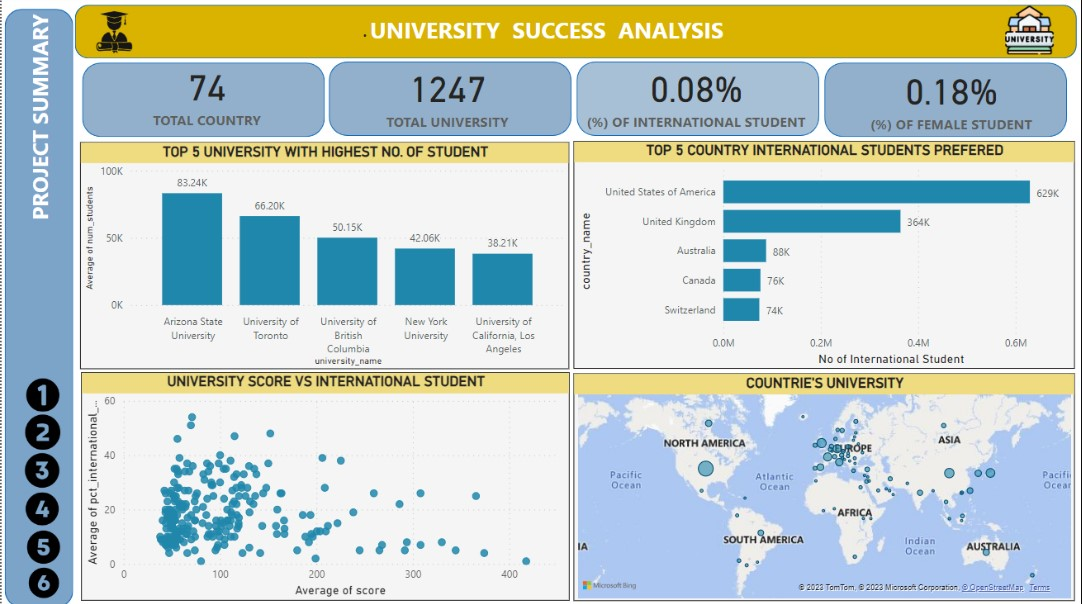

The page's visual inventory and layout, read from the dashboard file:
{"tool":"powerbi","page":{"name":"Dashboard","canvas":[1280,720],"ordinal":0},"visuals":[{"type":"shape","title":"PROJECT SUMMARY","box":[3.7,11,81.2,709],"z":0},{"type":"shape","box":[86.3,6.1,1186.2,63.6],"z":1000},{"type":"textbox","box":[413.2,12.2,522.7,55],"z":2000},{"type":"image","box":[1154.1,2.7,125.9,67.2],"z":3000},{"type":"image","box":[68,3.4,128.4,68.5],"z":4000},{"type":"shape","box":[387.5,73.6,287.3,88],"z":5000},{"type":"shape","box":[680.9,73.3,287.3,88],"z":6000},{"type":"shape","box":[974.3,74.6,287.3,88],"z":7000},{"type":"card","title":"TOTAL COUNTRY","fields":{"Values":["CountNonNull(country_university_lookup_table.university.id (PK))"]},"box":[437.6,67.5,180.9,91.7],"z":8000},{"type":"card","title":"TOTAL COUNTRY","fields":{"Values":["university_fact_table.Internation_student_percentage (%)"]},"box":[682.6,67.2,281.2,91.7],"z":9000},{"type":"card","title":"TOTAL COUNTRY","fields":{"Values":["university_fact_table.Female student Percentage(%)"]},"box":[986.5,69.7,276.8,91.7],"z":10000},{"type":"columnChart","title":"TOP 5 UNIVERSITY WITH HIGHEST NO. OF STUDENT","fields":{"Category":["country_university_table.university_name"],"Y":["Avg(university_fact_table.num_students)"]},"box":[92.9,168.7,579.4,269.2],"z":11000},{"type":"map","title":"COUNTRIE''S UNIVERSITY","fields":{"Category":["country_university_lookup_table.country_name"],"Size":["CountNonNull(country_university_lookup_table.university.id (PK))"]},"box":[677.8,441.9,593.7,270],"z":12000},{"type":"scatterChart","title":"UNIVERSITY SCORE VS INTERNATIONAL STUDENT","fields":{"X":["university_fact_table.score"],"Y":["Avg(university_fact_table.pct_international_students)"],"Category":["country_university_table.university.id (PK)"]},"box":[94.1,441.3,578.4,270.2],"z":13000},{"type":"image","box":[19.6,443.2,58.7,48.9],"z":14000},{"type":"image","box":[15.4,486.3,64.8,51.3],"z":15000},{"type":"image","box":[17.8,531.7,58.7,51.3],"z":16000},{"type":"image","box":[22.7,578.4,50.1,50.1],"z":17000},{"type":"image","box":[20.8,623.4,57.7,49.8],"z":18000},{"type":"image","box":[22,667.4,55.7,46.9],"z":19000},{"type":"shape","box":[95.1,74.3,287.3,88],"z":20000},{"type":"card","title":"TOTAL COUNTRY","fields":{"Values":["Count(country_university_lookup_table.country_name)"]},"box":[153.3,65.3,180.9,91.7],"z":21000},{"type":"clusteredBarChart","title":"TOP 5 COUNTRY INTERNATIONAL STUDENTS PREFERED","fields":{"Category":["country_university_lookup_table.country_name"],"Y":["Sum(university_fact_table.pct_international_students)"]},"box":[677.8,167.7,593.7,270],"z":22000}]}

Visuals, with their boxes in screenshot pixels (x1, y1, x2, y2), scaled from the page's 1280x720 canvas onto the 1082x604 screenshot:
"PROJECT SUMMARY" shape: locate(3, 9, 72, 603)
shape: locate(73, 5, 1076, 58)
textbox: locate(349, 10, 791, 56)
image: locate(976, 2, 1081, 59)
image: locate(57, 3, 166, 60)
shape: locate(328, 62, 570, 136)
shape: locate(576, 61, 818, 135)
shape: locate(824, 63, 1066, 136)
"TOTAL COUNTRY" card: locate(370, 57, 523, 134)
"TOTAL COUNTRY" card: locate(577, 56, 815, 133)
"TOTAL COUNTRY" card: locate(834, 58, 1068, 135)
"TOP 5 UNIVERSITY WITH HIGHEST NO. OF STUDENT" columnChart: locate(79, 142, 568, 367)
"COUNTRIE''S UNIVERSITY" map: locate(573, 371, 1075, 597)
"UNIVERSITY SCORE VS INTERNATIONAL STUDENT" scatterChart: locate(80, 370, 568, 597)
image: locate(17, 372, 66, 413)
image: locate(13, 408, 68, 451)
image: locate(15, 446, 65, 489)
image: locate(19, 485, 62, 527)
image: locate(18, 523, 66, 565)
image: locate(19, 560, 66, 599)
shape: locate(80, 62, 323, 136)
"TOTAL COUNTRY" card: locate(130, 55, 283, 132)
"TOP 5 COUNTRY INTERNATIONAL STUDENTS PREFERED" clusteredBarChart: locate(573, 141, 1075, 367)
